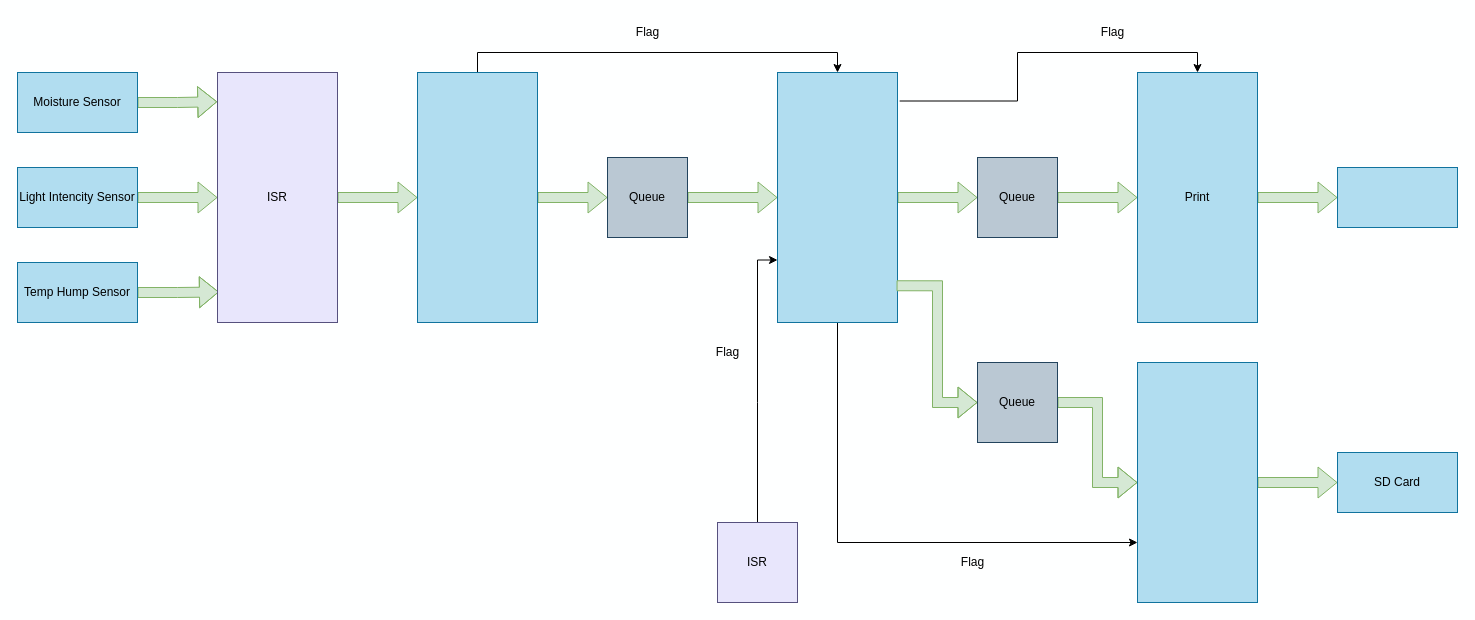
Some shapes in this 1475 by 620 pixel diagram are drawn without their labels. The centre of each missing label's shape, as x and y in pixels:
Main Task: point (837, 197)
Memory Manager: point (1197, 482)
OLED LCD: point (1397, 197)
Process Input Task: point (477, 197)
